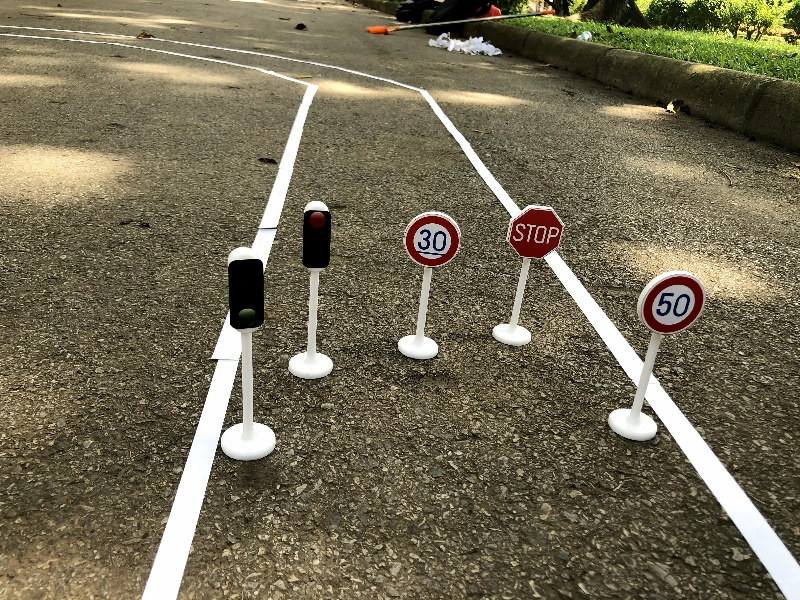Green: (217, 245, 277, 461)
Limit 30: (396, 210, 463, 361)
Limit 50: (607, 269, 707, 442)
Red: (286, 199, 336, 380)
Stop: (490, 204, 567, 347)
